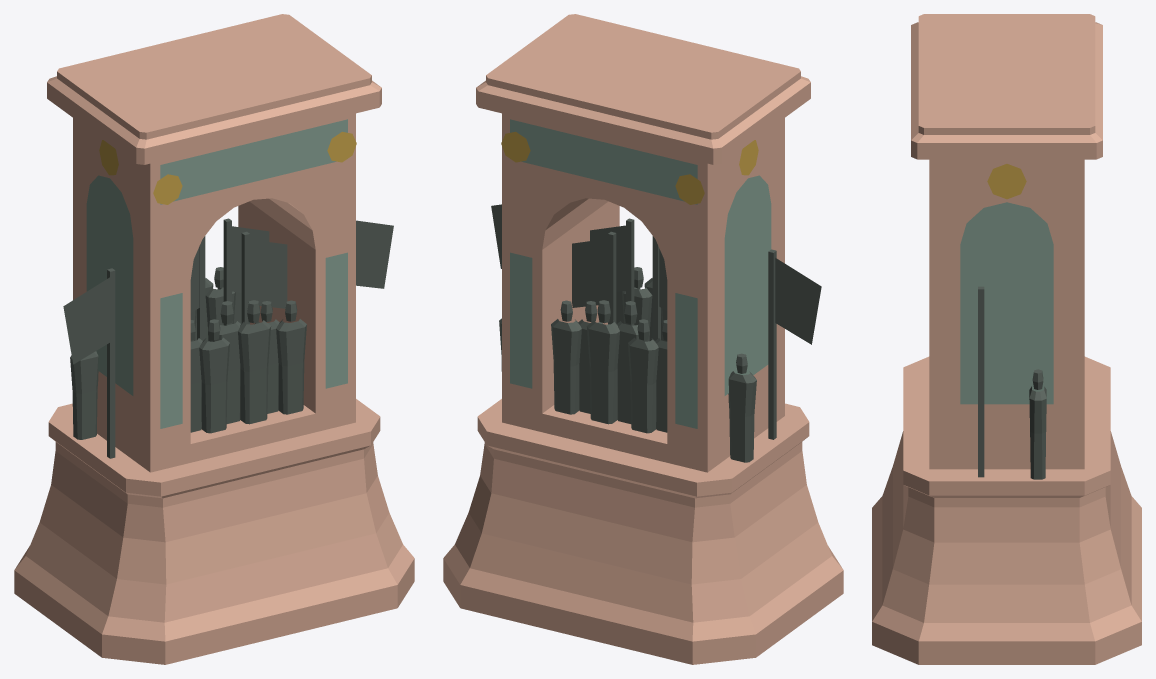
Rendered from istanbul-taksim-republic-monument.glb.
3 views of the same model, side by side, from view 1: azimuth 30°, elevation 25°; view 2: azimuth 150°, elevation 25°; view 3: azimuth 270°, elevation 25° (orthographic).
Parts seen in each view (by area): view 1: Republic Monument; view 2: Republic Monument; view 3: Republic Monument.
Part boxes in pixels (x1,y1,x2,y2): Republic Monument: [14, 14, 414, 664]; Republic Monument: [443, 14, 843, 664]; Republic Monument: [872, 14, 1141, 664].
Size of the model in its own units: 7.4 by 11 by 5.2.
